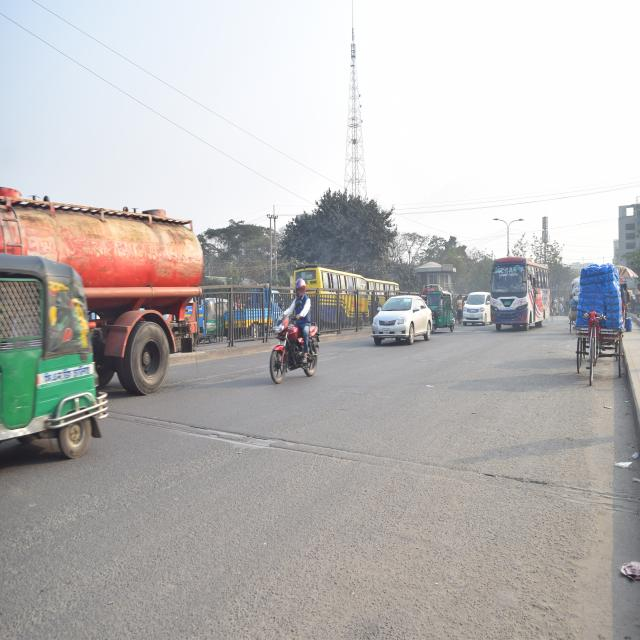bus: (488, 255, 551, 334)
car: (368, 288, 432, 351)
microbus: (458, 289, 490, 328)
motorbike: (266, 298, 322, 399)
truck: (0, 182, 211, 442)
